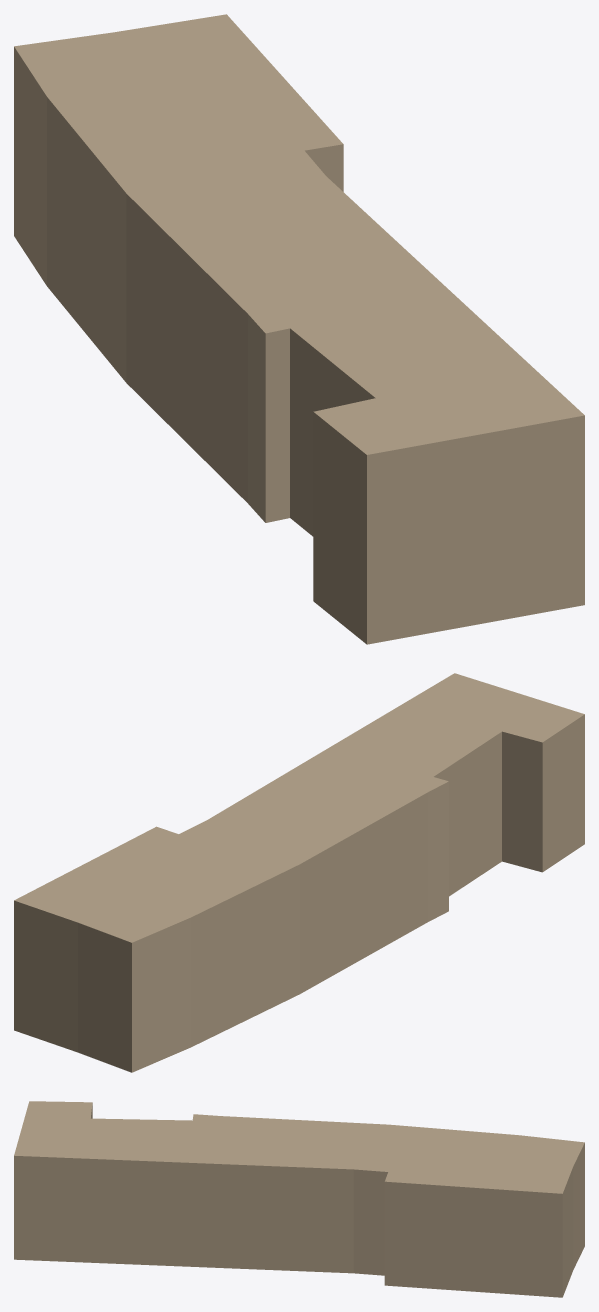
The model's file is bld_98640374.dae.
3 renders of one model, top to bottom at view 1: azimuth 30°, elevation 25°; view 2: azimuth 150°, elevation 25°; view 3: azimuth 270°, elevation 25°, orthographic. The views are drawn at different scales.
Visible parts, largest first — view 1: aesthetics of Essex; view 2: aesthetics of Essex; view 3: aesthetics of Essex.
Boxes of the visible parts, <box> form: aesthetics of Essex: <box>14,14,584,644</box>; aesthetics of Essex: <box>14,673,584,1072</box>; aesthetics of Essex: <box>14,1101,584,1297</box>.
Bounding box in the file's own units: 15.29 × 39.83 × 8.
